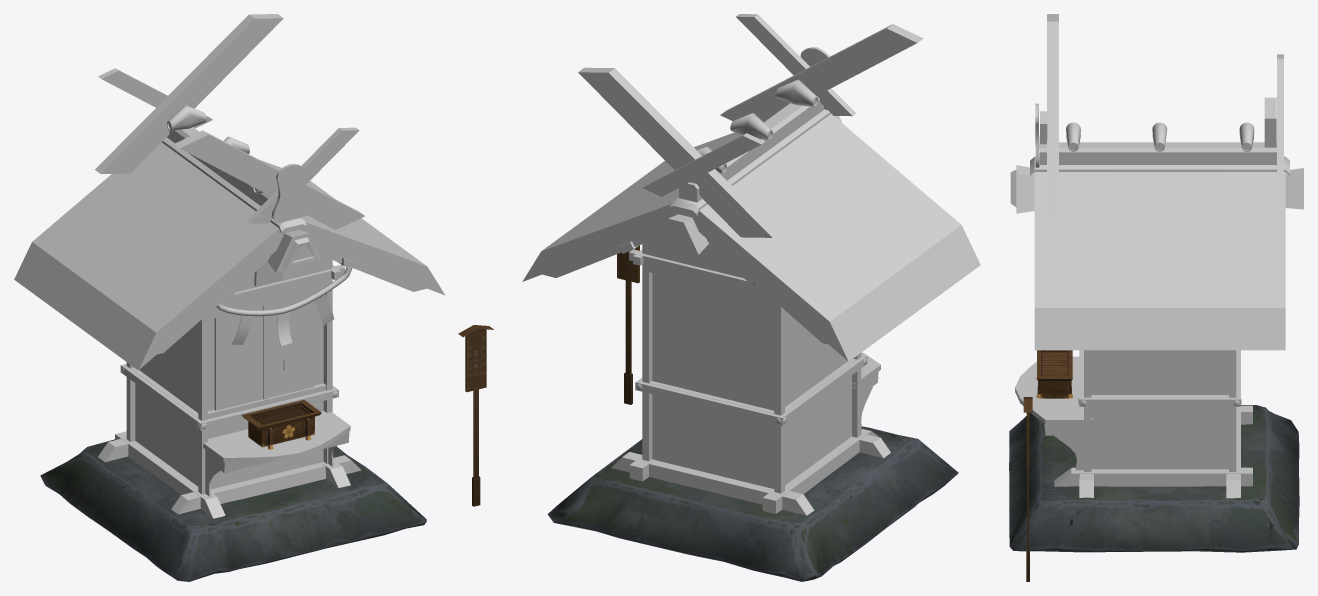
Rendered from Japanese Altar.fbx.
3 renders of one model, left to right at view 1: azimuth 30°, elevation 25°; view 2: azimuth 150°, elevation 25°; view 3: azimuth 270°, elevation 25°, orthographic. The views are drawn at different scales.
Parts seen in each view (by area): view 1: SM_Altars, SM_Stone_slab, SM_box, SM_Sign; view 2: SM_Altars, SM_Stone_slab, SM_Sign; view 3: SM_Altars, SM_Stone_slab, SM_box, SM_Sign.
Boxes of the visible parts, x1,y1,x2,y2 form: SM_Altars: (14,14,445,518); SM_Stone_slab: (40,439,426,581); SM_box: (241,400,321,449); SM_Sign: (458,325,493,506); SM_Altars: (522,14,980,515); SM_Stone_slab: (547,426,958,581); SM_Sign: (617,245,639,404); SM_Altars: (1010,14,1303,498); SM_Stone_slab: (1009,405,1299,552); SM_box: (1036,350,1072,398); SM_Sign: (1023,397,1032,581).
Bounding box in the file's own units: 325 × 235 × 379.
